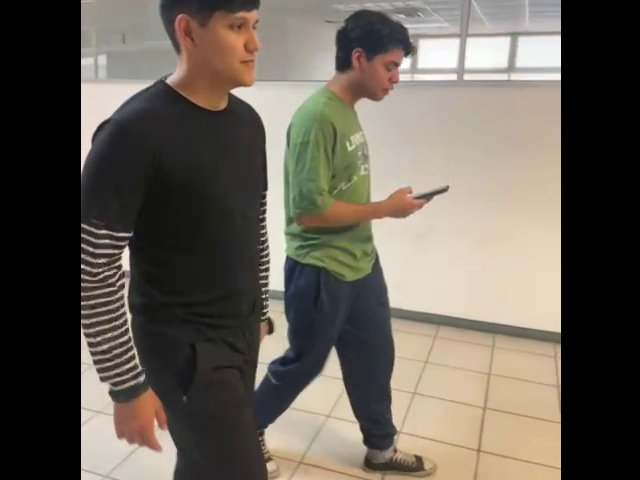mixto2: (402, 177, 454, 203)
